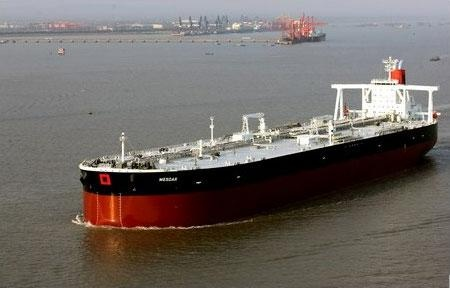Cargoship: (73, 51, 441, 233)
